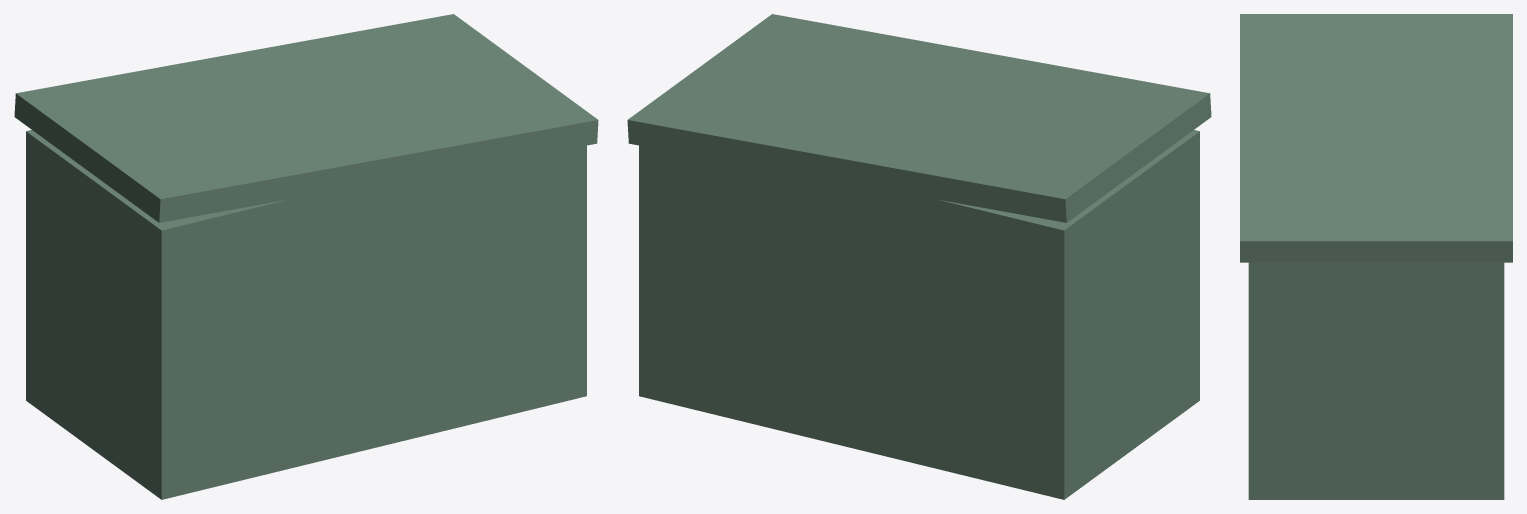
The model's file is city_dumpster.glb.
3 renders of one model, left to right at view 1: azimuth 30°, elevation 25°; view 2: azimuth 150°, elevation 25°; view 3: azimuth 270°, elevation 25°, orthographic. The views are drawn at different scales.
Parts seen in each view (by area): view 1: DumpsterBody, DumpsterLid; view 2: DumpsterBody, DumpsterLid; view 3: DumpsterLid, DumpsterBody.
Boxes of the visible parts, box(x1,y1,x2,y2) form: DumpsterBody: box(26, 130, 586, 499); DumpsterLid: box(14, 14, 598, 222); DumpsterBody: box(639, 130, 1199, 499); DumpsterLid: box(627, 14, 1211, 222); DumpsterLid: box(1240, 14, 1512, 262); DumpsterBody: box(1248, 262, 1504, 499).
Size of the model in its own units: 1.96 by 1.3 by 1.12.
